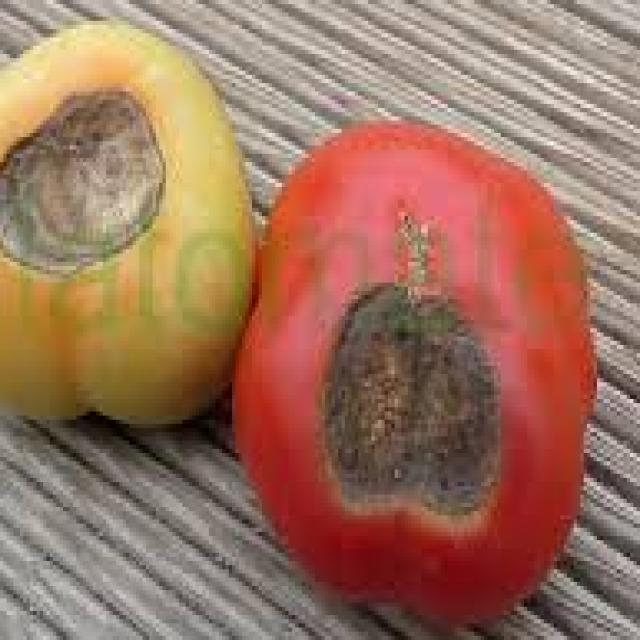inorganic: (254, 108, 624, 626), (0, 30, 270, 428)
